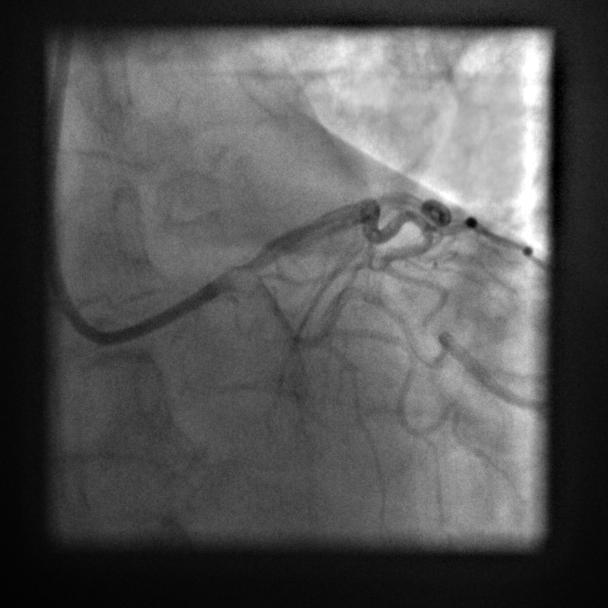Stenosis: (239, 249, 269, 283)
